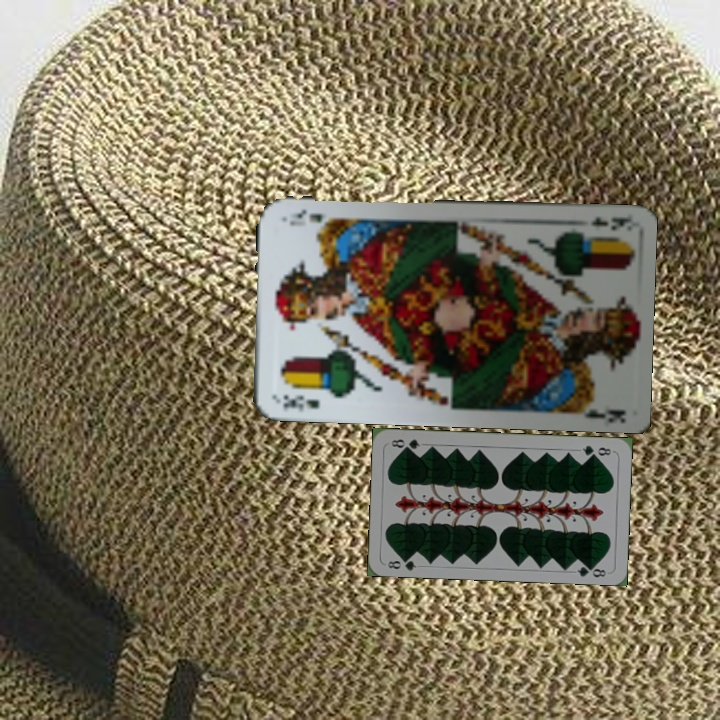EK: (279, 391, 321, 413), (587, 212, 631, 232)
G8: (383, 553, 419, 573), (579, 441, 616, 459)
